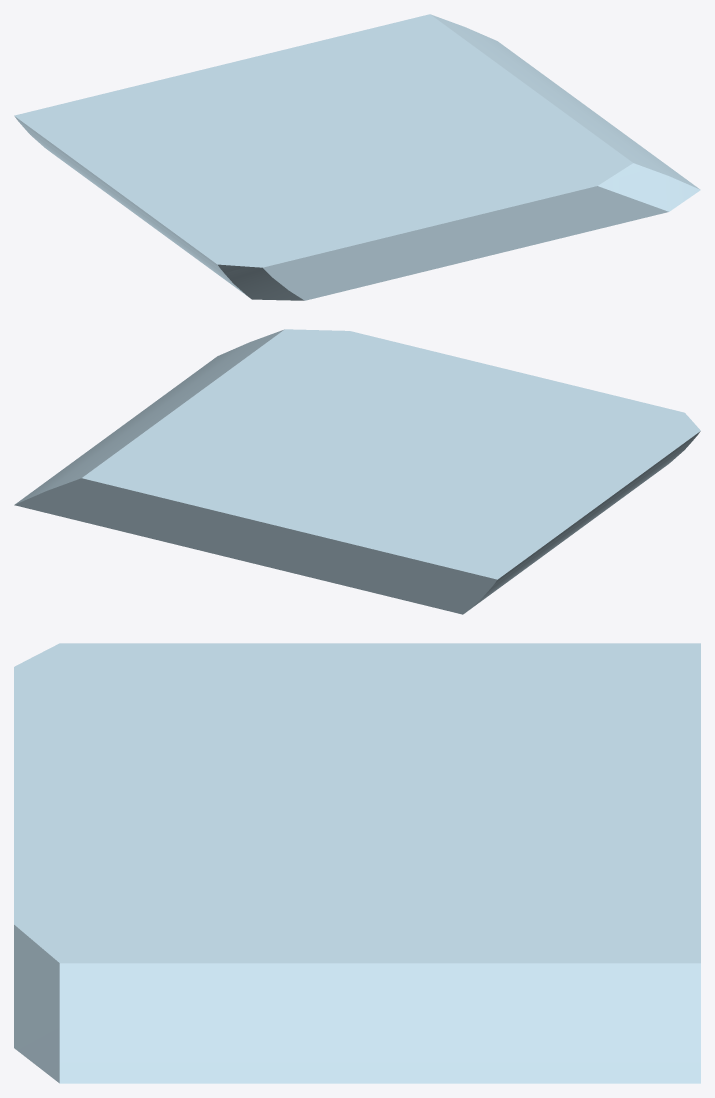
The model's file is STAM - S4.gltf.
3 renders of one model, top to bottom at view 1: azimuth 30°, elevation 25°; view 2: azimuth 150°, elevation 25°; view 3: azimuth 270°, elevation 25°, orthographic. The views are drawn at different scales.
Parts seen in each view (by area): view 1: S4; view 2: S4; view 3: S4.
Boxes of the visible parts, x1=… form: S4: x1=14, y1=14, x2=700, y2=300; S4: x1=14, y1=329, x2=700, y2=614; S4: x1=14, y1=643, x2=700, y2=1083.
Bounding box in the file's own units: 0.0192 × 0.00165 × 0.015.
